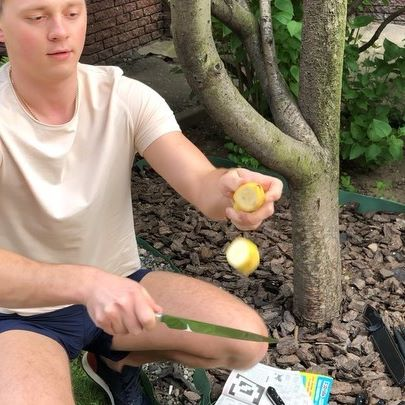knife: (154, 314, 278, 344)
